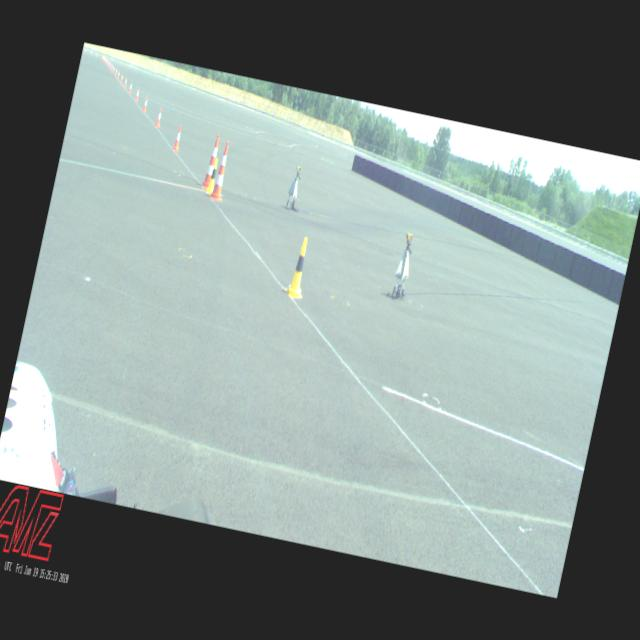large_orange_cone: (209, 140, 234, 200), (202, 134, 222, 188)
orange_cone: (172, 125, 184, 151), (154, 107, 163, 127), (142, 95, 148, 112), (134, 87, 140, 101), (123, 76, 128, 88), (128, 80, 132, 94), (120, 72, 124, 82), (116, 68, 120, 78), (114, 66, 118, 76), (110, 63, 114, 71), (106, 59, 110, 66), (112, 66, 115, 72), (109, 62, 112, 68), (108, 61, 110, 68)
yellow_cone: (284, 236, 313, 298), (205, 157, 221, 193)
